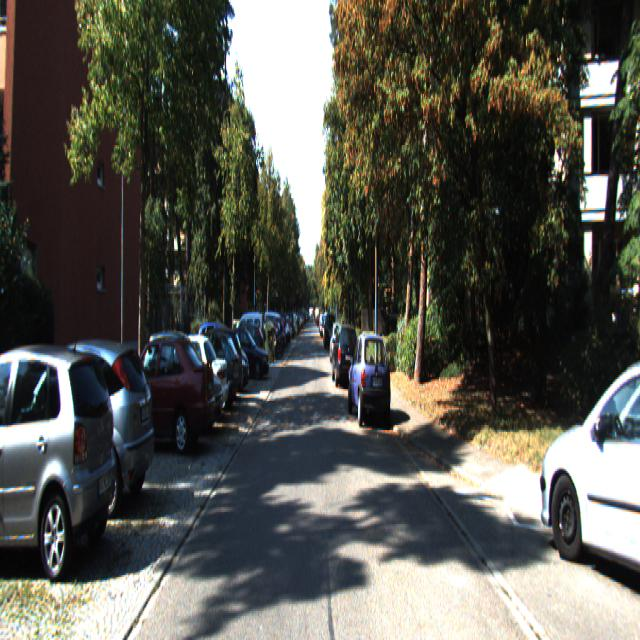Car: (0, 329, 155, 519), (0, 333, 119, 580), (538, 328, 639, 587), (106, 324, 217, 449), (150, 328, 230, 422), (347, 326, 391, 427), (220, 322, 270, 379), (330, 320, 360, 387), (230, 311, 264, 368)
